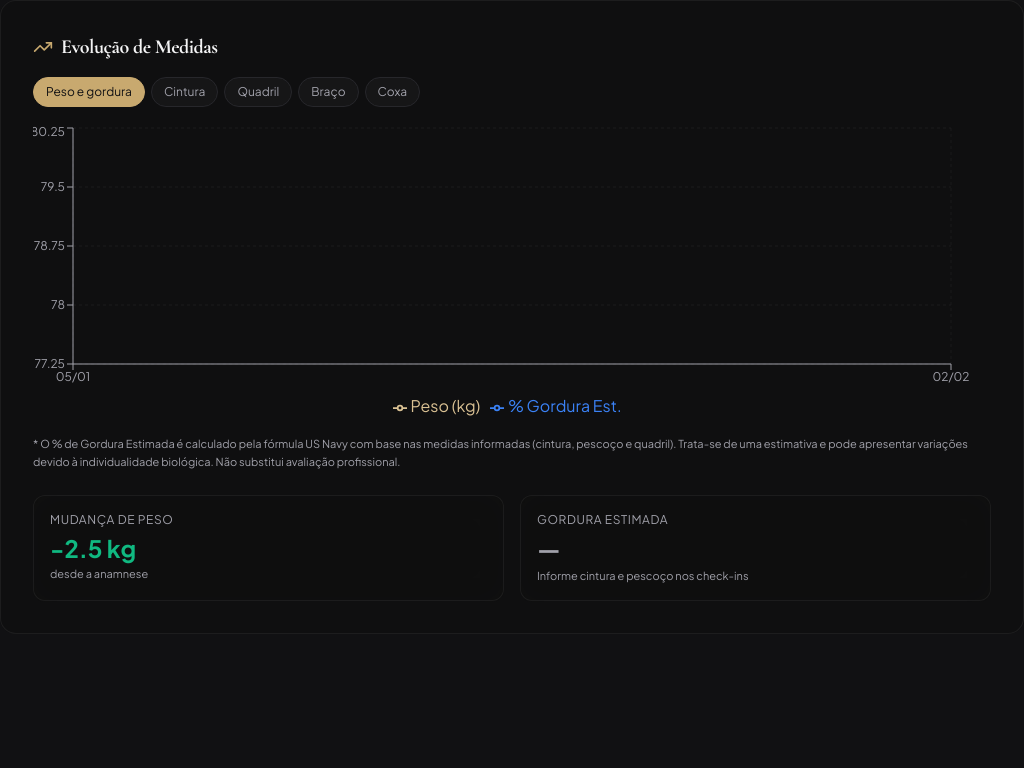
Test: gráfico de evolução — medidas › variação de peso desde a anamnese e troca para cintura
The image size is (1024, 768).
Expected: the text with test id "progress-delta" reads "-2.5 kg", [50, 533, 136, 563]
Expected: the text "desde a anamnese" is shown, [50, 567, 148, 580]
Click the button "Cintura" at (185, 92), box [151, 77, 218, 107]
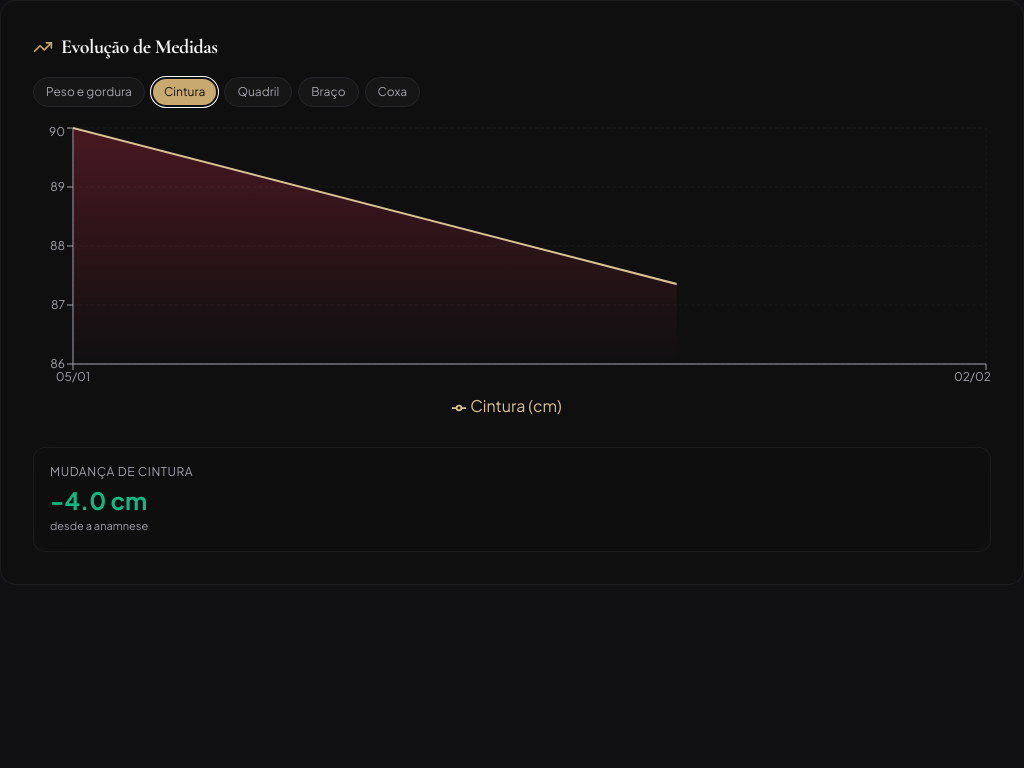
Now the text with test id "progress-delta" reads "-4.0 cm", box [50, 485, 147, 515]
Now the text "Mudança de Cintura" is shown, box [50, 464, 193, 479]
